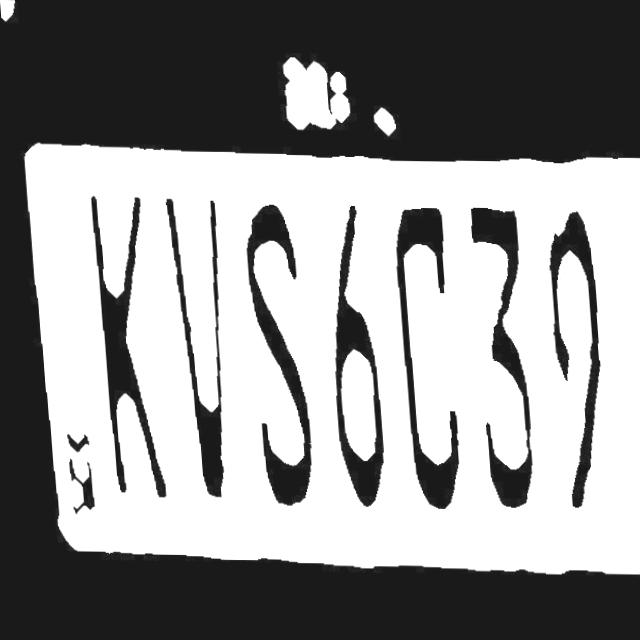3: (463, 204, 551, 529)
6: (309, 196, 387, 510)
9: (532, 193, 618, 530)
c: (374, 200, 472, 519)
k: (73, 192, 169, 507)
s: (223, 187, 316, 507)
v: (149, 194, 233, 498)
